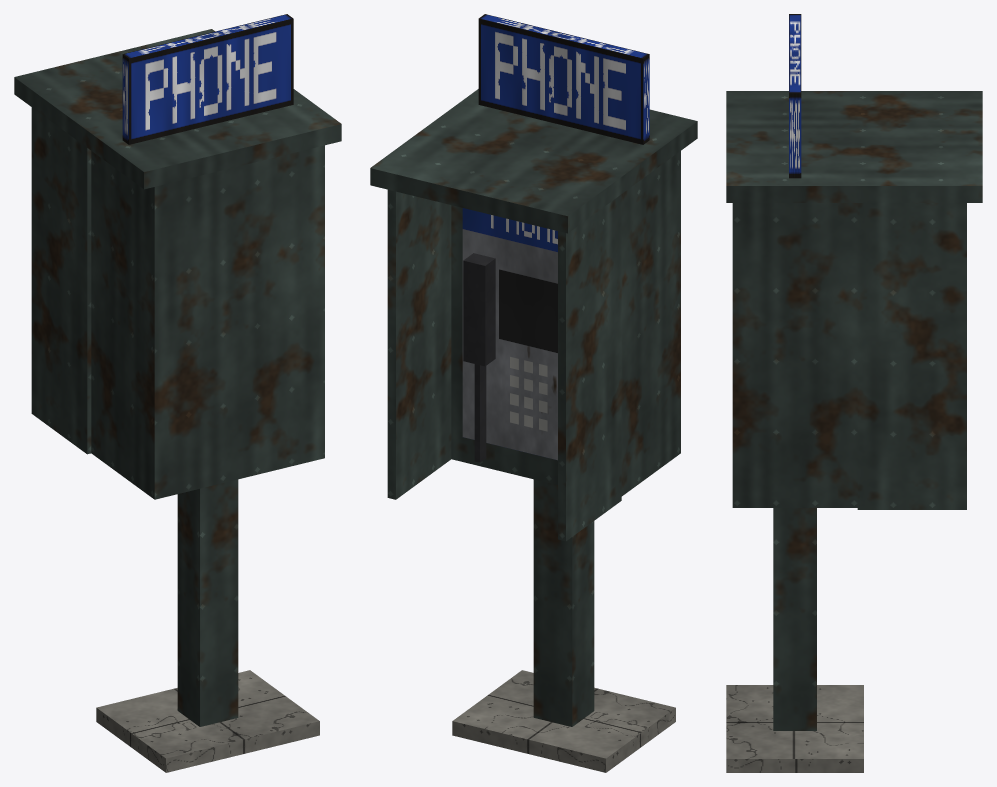
The model's file is PhoneBooth.fbx.
3 renders of one model, left to right at view 1: azimuth 30°, elevation 25°; view 2: azimuth 150°, elevation 25°; view 3: azimuth 270°, elevation 25°, orthographic.
Parts seen in each view (by area): view 1: PhoneBooth; view 2: PhoneBooth; view 3: PhoneBooth.
Part boxes in pixels (box(x1,y1,x2,y2)): PhoneBooth: box(14, 14, 341, 772); PhoneBooth: box(370, 14, 697, 772); PhoneBooth: box(726, 14, 982, 772).
Bounding box in the file's own units: 0.72 × 2.41 × 0.82.
